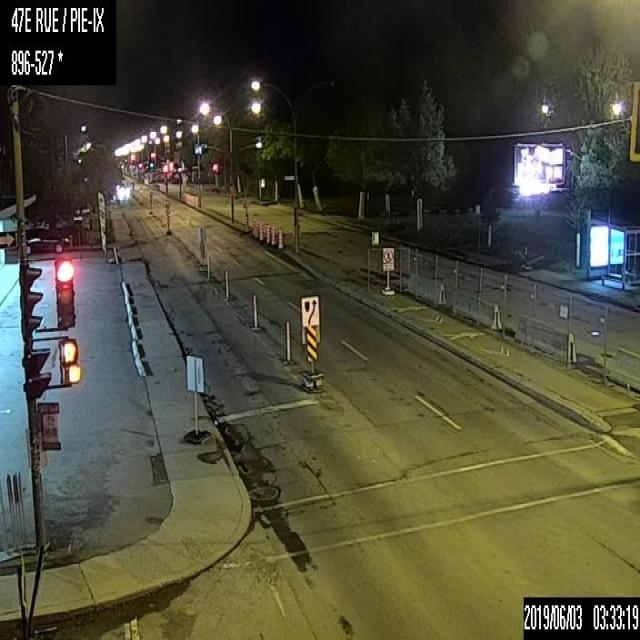construction: (285, 319, 291, 364), (252, 292, 257, 329), (264, 224, 270, 244), (270, 226, 276, 246), (277, 229, 282, 249), (253, 218, 258, 238), (258, 221, 263, 241), (225, 269, 228, 300), (206, 256, 209, 281)
vehicle: (25, 227, 70, 252)
